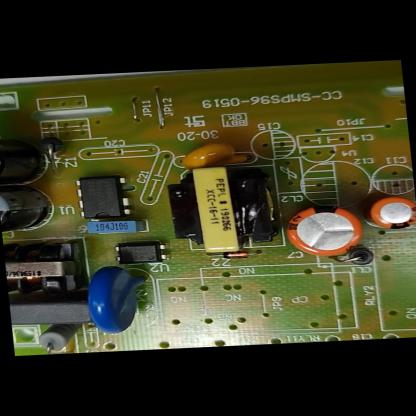Cap1: (274, 196, 372, 265)
Cap2: (362, 192, 416, 235)
Cap3: (0, 182, 59, 239)
Cap4: (0, 132, 50, 188)
MOSFET: (72, 172, 135, 222)
Mov: (80, 262, 156, 336)
Resistor: (34, 324, 83, 353)
Transformer: (161, 161, 288, 259), (3, 235, 96, 300)
